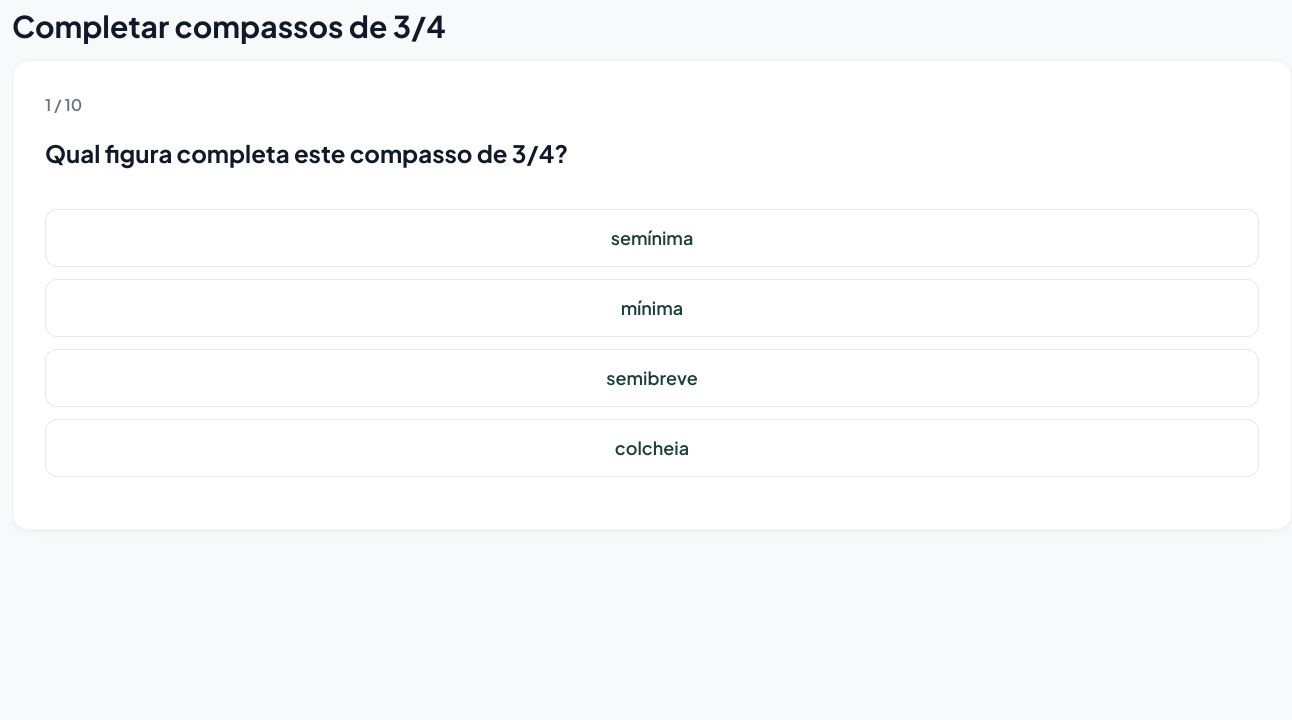
telas de teoria › Exercise tem h1 com o título e "Próxima" leva o foco ao novo enunciado
Expected: the heading "Completar compassos de 3/4" is shown, [12, 7, 446, 45]
Click the button "semínima": (652, 238) [45, 209, 1259, 267]
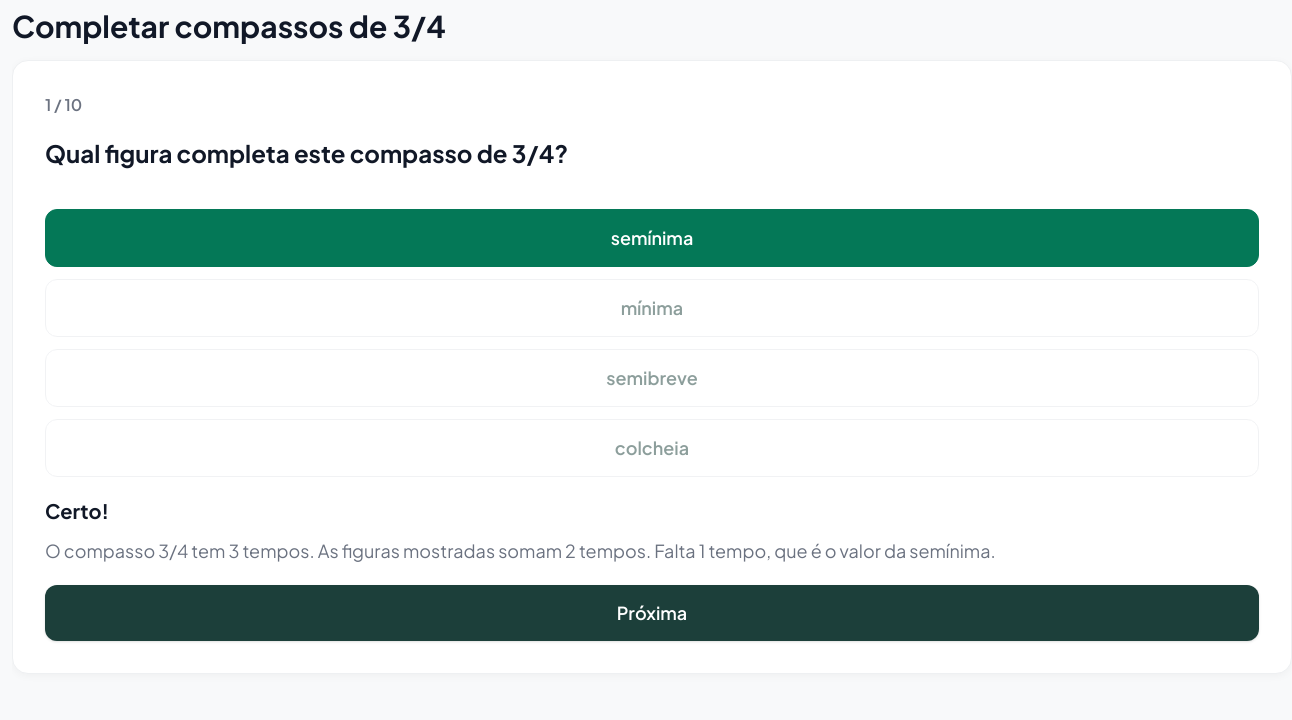
Click the button "Próxima": (652, 613) [45, 585, 1259, 641]
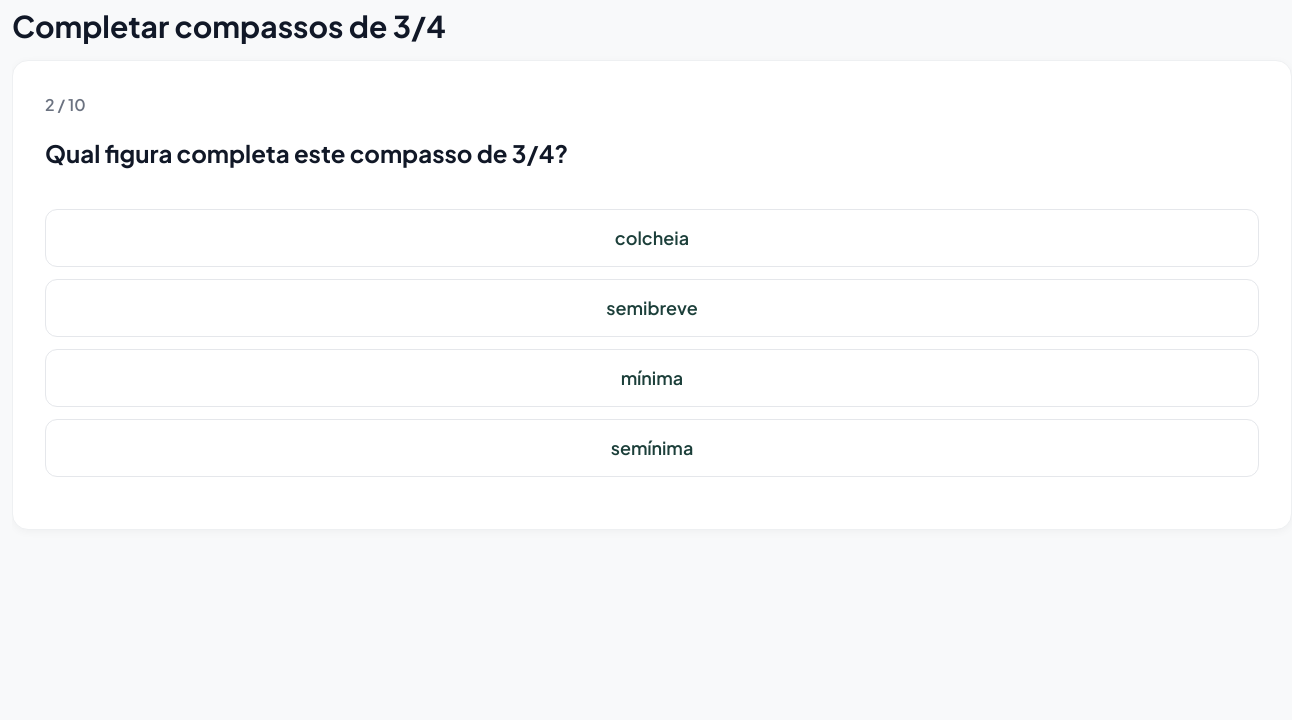
Result: the text "2 / 10" is shown at [45, 94, 86, 115]
